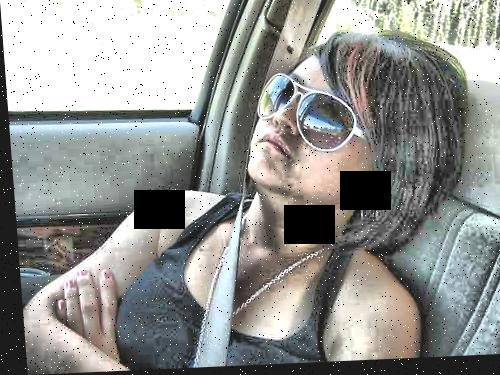seatbelt: (151, 0, 364, 367)
